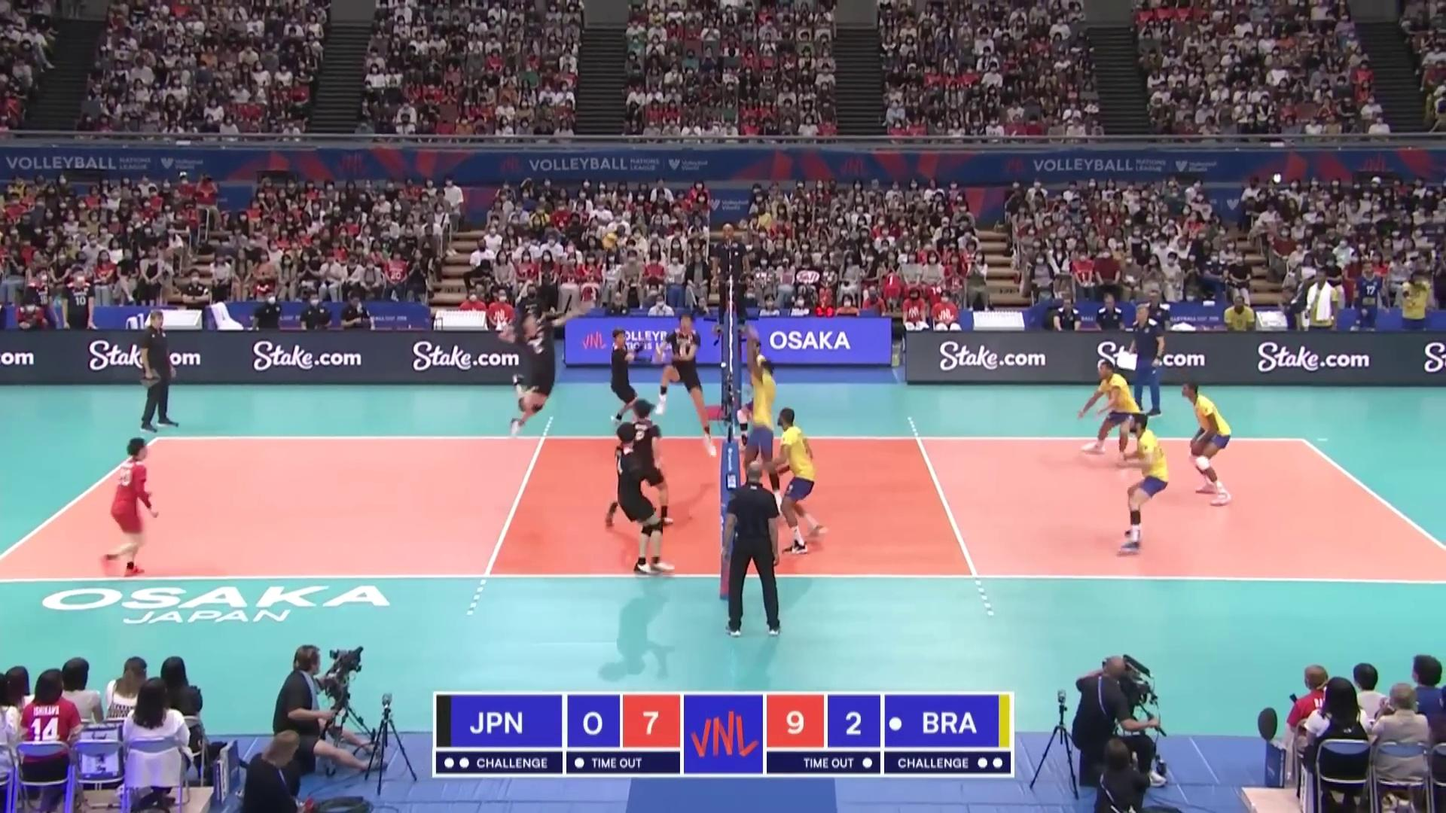player: (502, 300, 595, 432), (653, 312, 717, 454), (615, 424, 672, 575), (607, 400, 675, 526), (100, 439, 161, 575), (1111, 413, 1166, 554), (776, 408, 827, 556), (1182, 379, 1235, 505), (1082, 360, 1144, 462), (746, 357, 782, 508), (608, 329, 650, 424), (746, 337, 779, 443)
refree: (723, 460, 782, 645), (712, 223, 749, 332)
